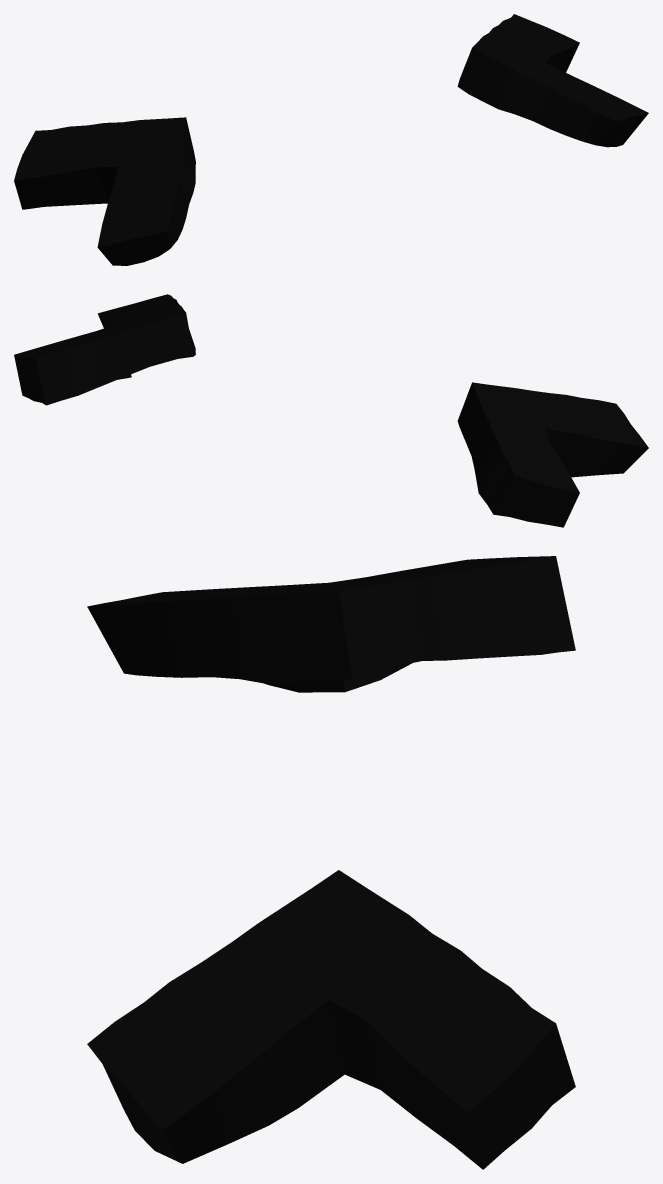
File: Kid_AngerEyes.fbx
The picture shows the model from 3 angles, top to bottom: view 1: azimuth 30°, elevation 25°; view 2: azimuth 150°, elevation 25°; view 3: azimuth 270°, elevation 25°; orthographic projection. The views are drawn at different scales.
Visible parts, largest first — view 1: KidEyes:KidEyes; view 2: KidEyes:KidEyes; view 3: KidEyes:KidEyes.
Part boxes in pixels (left/top/right/bottom): KidEyes:KidEyes: left=14, top=14, right=648, bottom=265; KidEyes:KidEyes: left=14, top=294, right=648, bottom=527; KidEyes:KidEyes: left=87, top=556, right=575, bottom=1169.
Bounding box in the file's own units: 123 × 19.13 × 45.93.
1 material, 1 textured.
